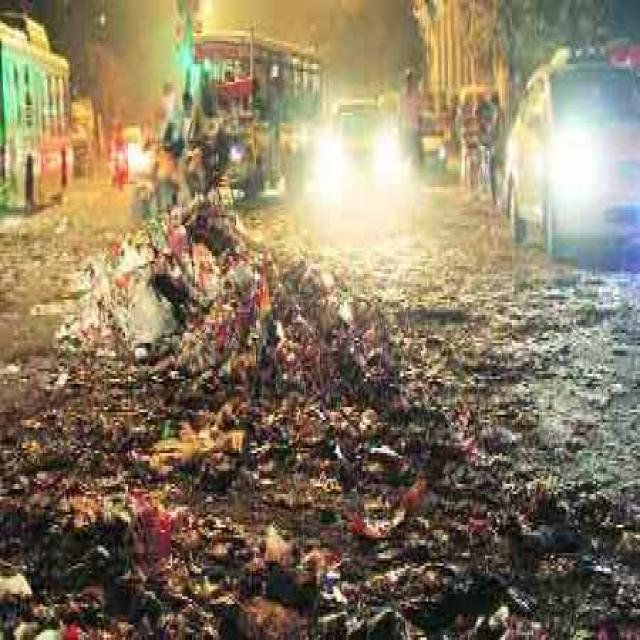garbage: (74, 187, 521, 640)
